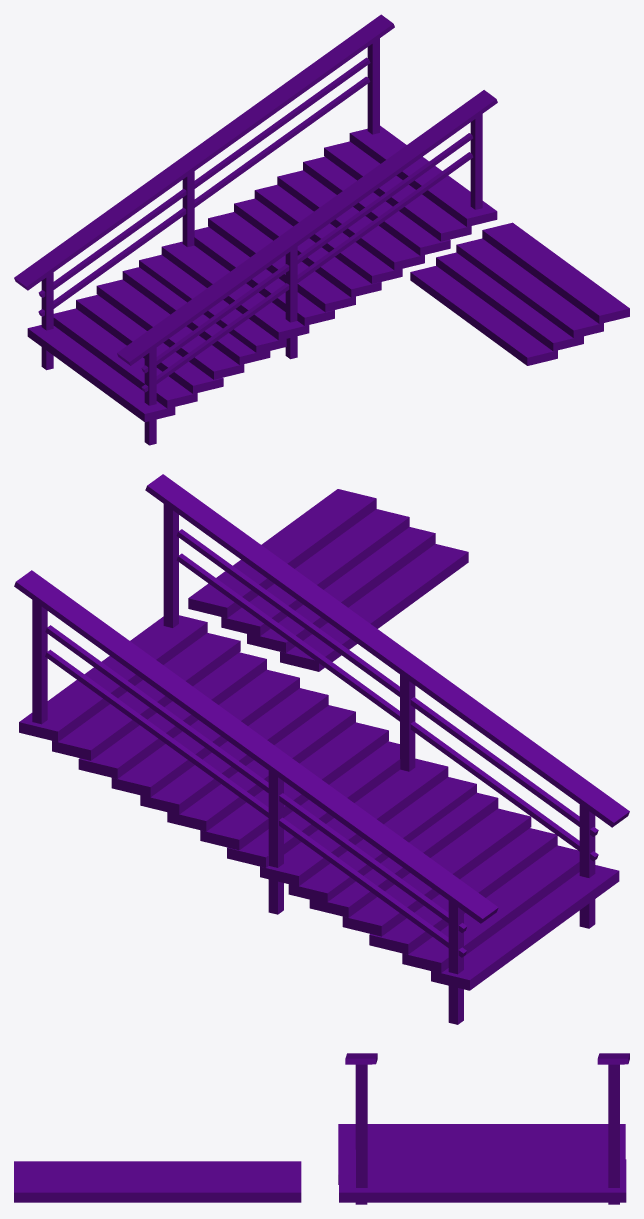
File: Stariski.fbx
3 renders of one model, top to bottom at view 1: azimuth 30°, elevation 25°; view 2: azimuth 150°, elevation 25°; view 3: azimuth 270°, elevation 25°, orthographic. The views are drawn at different scales.
Visible parts, largest first — view 1: polySurface17, polySurface23, polySurface31, polySurface34, polySurface32, polySurface48, polySurface33, polySurface10, polySurface47, polySurface45, polySurface30, polySurface36 (+19 smaller); view 2: polySurface23, polySurface17, polySurface31, polySurface48, polySurface10, polySurface45, polySurface47, polySurface34, polySurface30, polySurface36, polySurface32, polySurface42 (+19 smaller); view 3: polySurface31, polySurface10, polySurface32, polySurface34, polySurface40, polySurface42, polySurface45, polySurface47, polySurface30, polySurface36, polySurface11, polySurface26 (+11 smaller).
Boxes of the visible parts, bbox=[...] form: polySurface17: bbox=[14, 14, 394, 290]; polySurface23: bbox=[117, 90, 497, 365]; polySurface31: bbox=[482, 222, 629, 323]; polySurface34: bbox=[410, 266, 557, 365]; polySurface32: bbox=[456, 238, 603, 337]; polySurface48: bbox=[27, 325, 175, 422]; polySurface33: bbox=[436, 252, 583, 351]; polySurface10: bbox=[349, 125, 497, 226]; polySurface47: bbox=[53, 308, 197, 408]; polySurface45: bbox=[96, 279, 244, 379]; polySurface30: bbox=[324, 141, 471, 241]; polySurface36: bbox=[277, 170, 424, 270]; polySurface23: bbox=[145, 474, 629, 827]; polySurface17: bbox=[14, 570, 498, 923]; polySurface31: bbox=[188, 489, 376, 618]; polySurface48: bbox=[431, 865, 619, 990]; polySurface10: bbox=[19, 615, 207, 741]; polySurface45: bbox=[342, 808, 531, 936]; polySurface47: bbox=[402, 845, 579, 973]; polySurface34: bbox=[280, 544, 468, 671]; polySurface30: bbox=[52, 633, 240, 760]; polySurface36: bbox=[111, 669, 299, 797]; polySurface32: bbox=[221, 509, 409, 636]; polySurface42: bbox=[260, 758, 448, 886]; polySurface31: bbox=[14, 1174, 301, 1202]; polySurface10: bbox=[339, 1174, 626, 1202]; polySurface32: bbox=[14, 1169, 301, 1174]; polySurface34: bbox=[14, 1161, 301, 1166]; polySurface40: bbox=[338, 1151, 625, 1156]; polySurface42: bbox=[338, 1144, 625, 1149]; polySurface45: bbox=[338, 1134, 625, 1139]; polySurface47: bbox=[338, 1127, 625, 1132]; polySurface30: bbox=[339, 1169, 626, 1174]; polySurface36: bbox=[339, 1162, 626, 1167]; polySurface11: bbox=[608, 1064, 619, 1187]; polySurface26: bbox=[356, 1064, 367, 1187].
Size of the model in its own units: 11.3 by 7.81 by 13.36.
